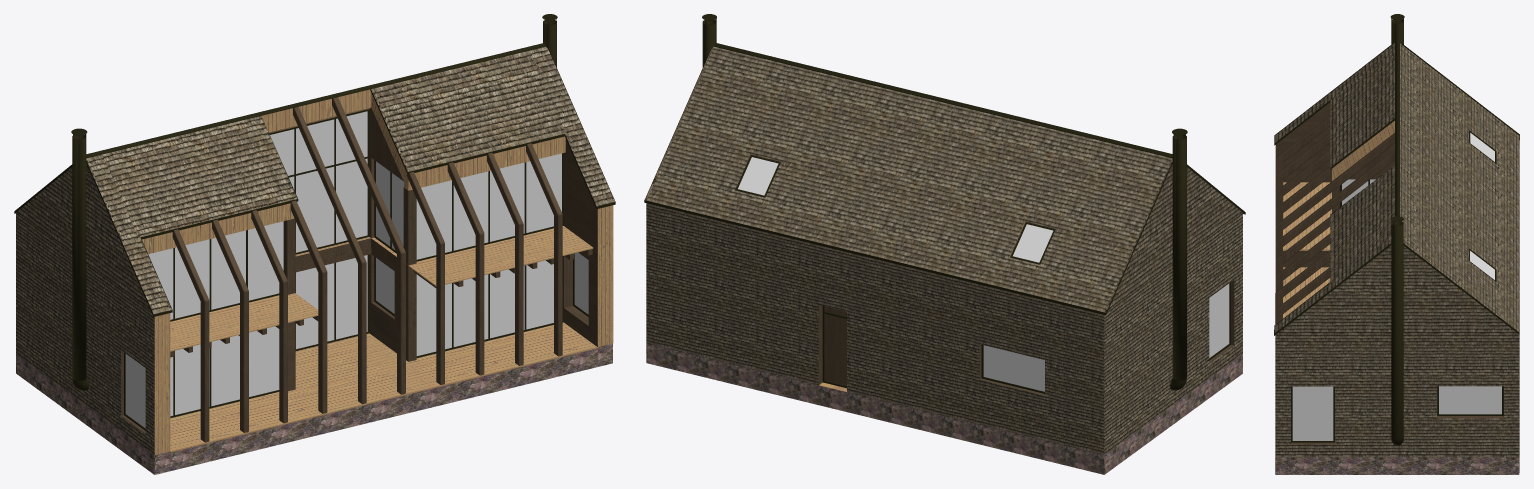
Rendered from cottage_b72f3de4.fbx.
3 renders of one model, left to right at view 1: azimuth 30°, elevation 25°; view 2: azimuth 150°, elevation 25°; view 3: azimuth 270°, elevation 25°, orthographic. The views are drawn at different scales.
Parts seen in each view (by area): view 1: cottage_b72f3de4; view 2: cottage_b72f3de4; view 3: cottage_b72f3de4.
Part boxes in pixels (x1,y1,x2,y2): cottage_b72f3de4: [14, 14, 615, 474]; cottage_b72f3de4: [644, 14, 1245, 474]; cottage_b72f3de4: [1274, 14, 1519, 474].
Bounding box in the file's own units: 15.73 × 9.12 × 7.86.
13 materials, 6 textured.
